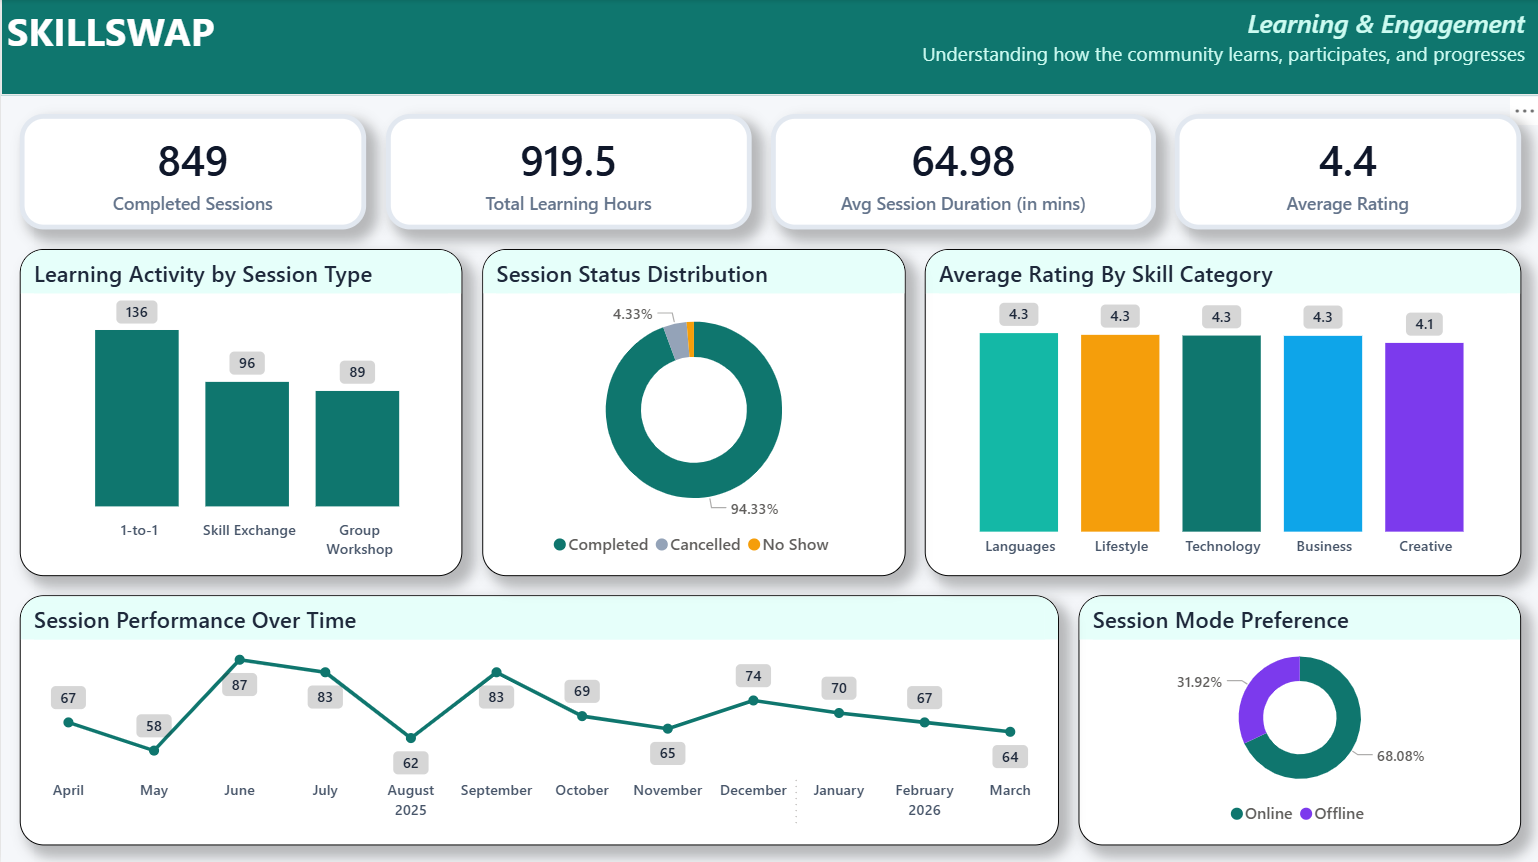

Layout of this report page (visuals, bound fields, positions):
{"tool":"powerbi","page":{"name":"Learning & Engagement","canvas":[1280,720],"ordinal":2},"visuals":[{"type":"textbox","box":[0,0,1280,80],"z":0},{"type":"textbox","box":[720,0,552,72],"z":1000},{"type":"card","fields":{"Values":["Sessions.Completed Sessions"]},"box":[16,96,288,96],"z":2000},{"type":"card","fields":{"Values":["Sessions.Total Learning Hours"]},"box":[320,96,304,96],"z":3000},{"type":"card","fields":{"Values":["Sessions.Avg Session Duration"]},"box":[640,96,320,96],"z":4000},{"type":"card","fields":{"Values":["Sessions.Average Rating"]},"box":[976,96,288,96],"z":5000},{"type":"clusteredColumnChart","title":"Learning Activity by Session Type","fields":{"Category":["Sessions.Session_Type"],"Y":["Sessions.Completed Sessions"]},"box":[16,208,368,272],"z":6000},{"type":"donutChart","title":"Session Mode Preference","fields":{"Category":["Sessions.Mode"],"Y":["Sessions.Completed Sessions"]},"box":[896,496,368,208],"z":7000},{"type":"lineChart","title":"Session Performance Over Time","fields":{"Y":["Sessions.Completed Sessions"],"Category":["Calendar.Month_Year.Variation.Date Hierarchy.Year","Calendar.Month_Year.Variation.Date Hierarchy.Month"]},"box":[16,496,864,208],"z":8000},{"type":"clusteredColumnChart","title":"Average Rating By Skill Category","fields":{"Category":["Skills.Category"],"Y":["Sessions.Average Rating"]},"box":[768,208,496,272],"z":9000},{"type":"donutChart","title":"Session Status Distribution","fields":{"Category":["Sessions.Session_Status"],"Y":["Sessions.Total Sessions"]},"box":[400,208,352,272],"z":10000}]}

Visuals, with their boxes in screenshot pixels (x1, y1, x2, y2), scaled from the page's 1280x720 canvas onto the 1538x862 screenshot:
textbox: x1=0, y1=0, x2=1537, y2=96
textbox: x1=865, y1=0, x2=1528, y2=86
card - Sessions.Completed Sessions: x1=19, y1=115, x2=365, y2=230
card - Sessions.Total Learning Hours: x1=384, y1=115, x2=750, y2=230
card - Sessions.Avg Session Duration: x1=769, y1=115, x2=1154, y2=230
card - Sessions.Average Rating: x1=1173, y1=115, x2=1519, y2=230
"Learning Activity by Session Type" clusteredColumnChart: x1=19, y1=249, x2=461, y2=575
"Session Mode Preference" donutChart: x1=1077, y1=594, x2=1519, y2=843
"Session Performance Over Time" lineChart: x1=19, y1=594, x2=1057, y2=843
"Average Rating By Skill Category" clusteredColumnChart: x1=923, y1=249, x2=1519, y2=575
"Session Status Distribution" donutChart: x1=481, y1=249, x2=904, y2=575
